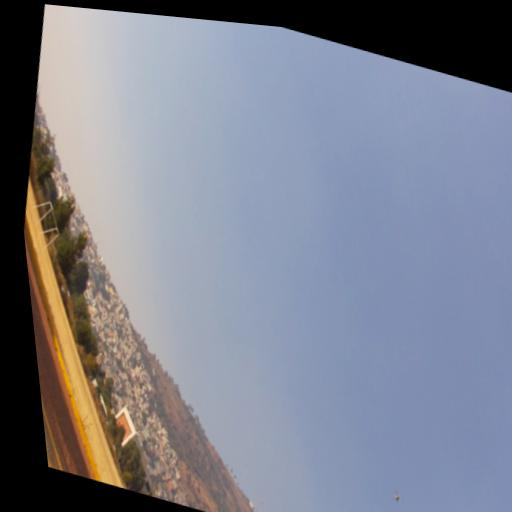drones: (389, 487, 406, 508)
